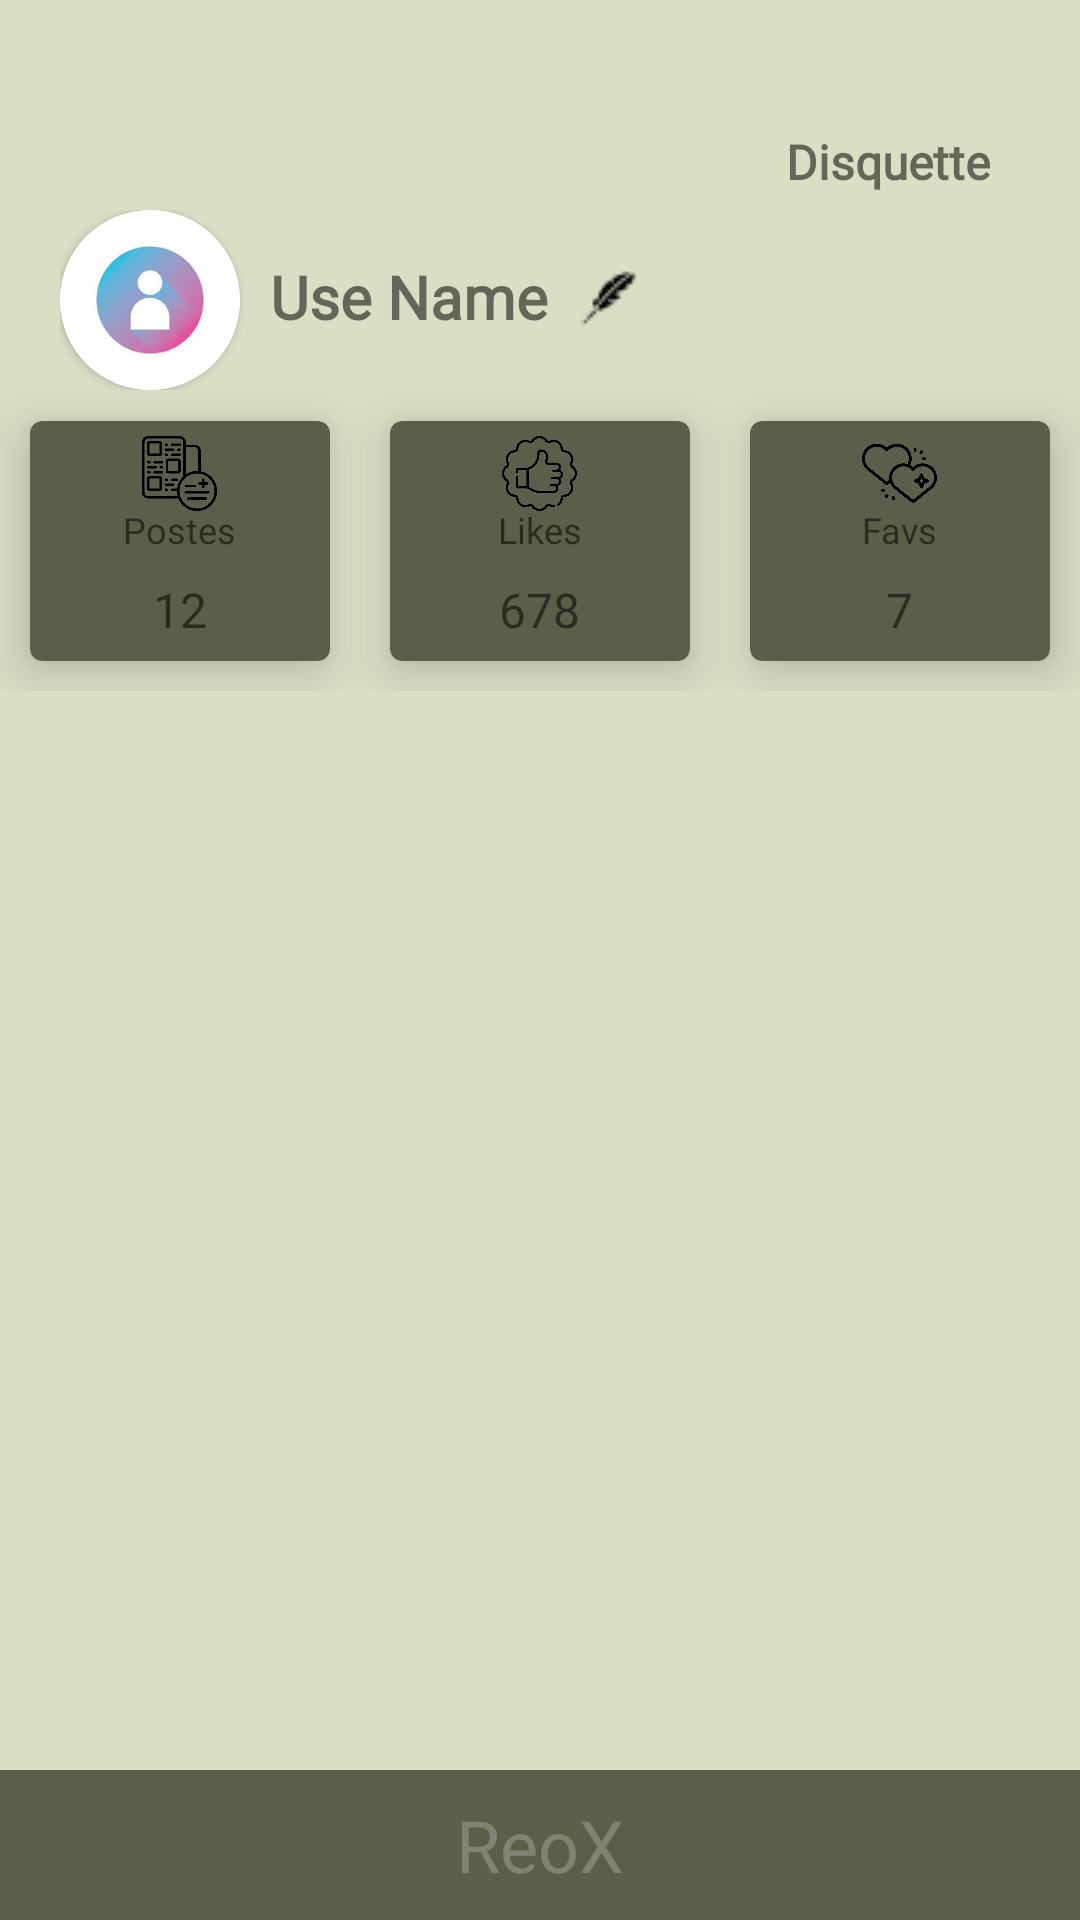

Named icons in this screenshot (1080w x 1920h) and their bounding boxes, {"x1": x1, "y1": y1, "x2": x2, "y2": y2}:
good: {"x1": 502, "y1": 436, "x2": 577, "y2": 511}
profile: {"x1": 60, "y1": 210, "x2": 240, "y2": 390}
